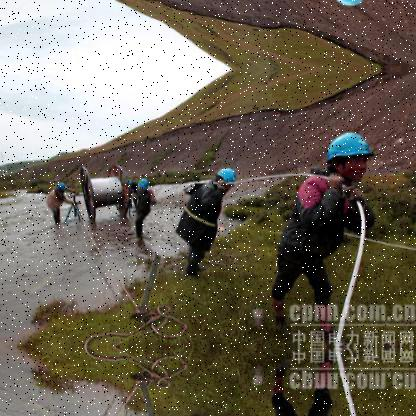Helmet: (330, 124, 376, 188), (214, 164, 242, 192), (52, 174, 74, 196), (132, 178, 156, 198)
